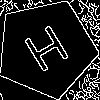H: (21, 24, 77, 82)
